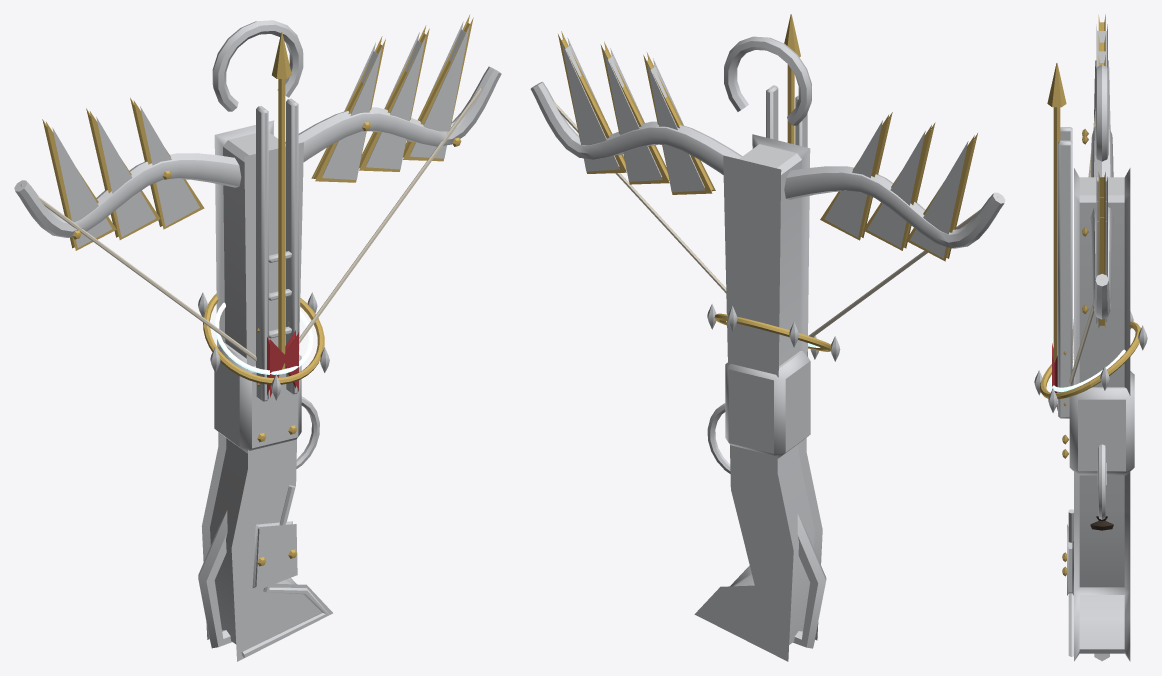
The model's file is esc_w_ranger_crossbow_5.glb.
3 renders of one model, left to right at view 1: azimuth 30°, elevation 25°; view 2: azimuth 150°, elevation 25°; view 3: azimuth 270°, elevation 25°, orthographic. The views are drawn at different scales.
Visible parts, largest first — view 1: esc_w_ranger_crossbow_5; view 2: esc_w_ranger_crossbow_5; view 3: esc_w_ranger_crossbow_5.
Part boxes in pixels (box(x1,y1,x2,y2)): esc_w_ranger_crossbow_5: box(14, 15, 501, 661); esc_w_ranger_crossbow_5: box(530, 14, 1005, 661); esc_w_ranger_crossbow_5: box(1034, 14, 1147, 661).
Size of the model in its own units: 0.9413 by 1.16 by 0.2009.
